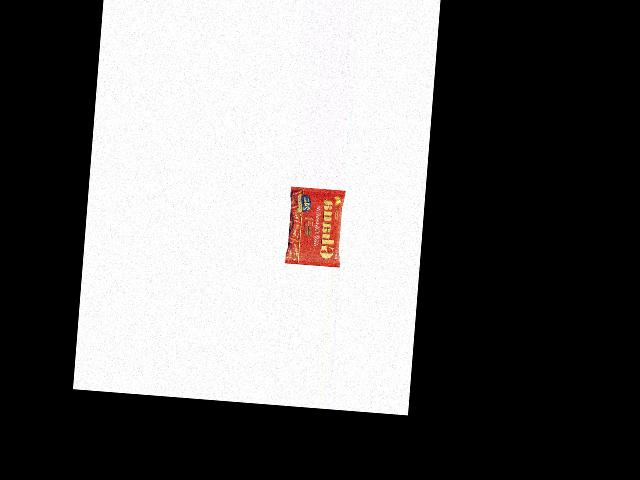chocolate: (283, 185, 344, 266)
